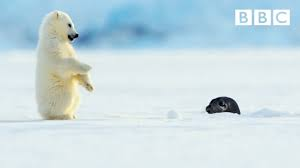PolarBear: (22, 8, 99, 130)
